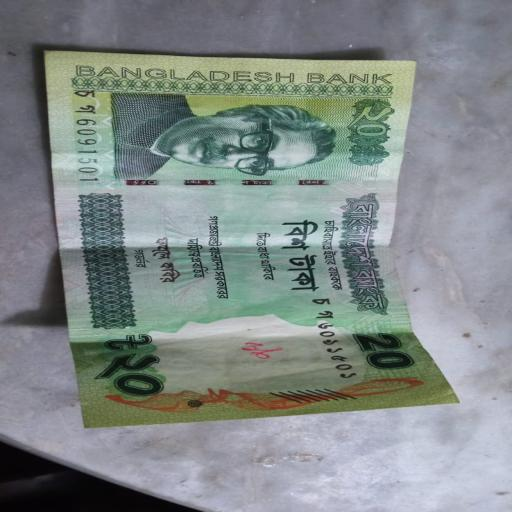20taka: (37, 45, 468, 427)
